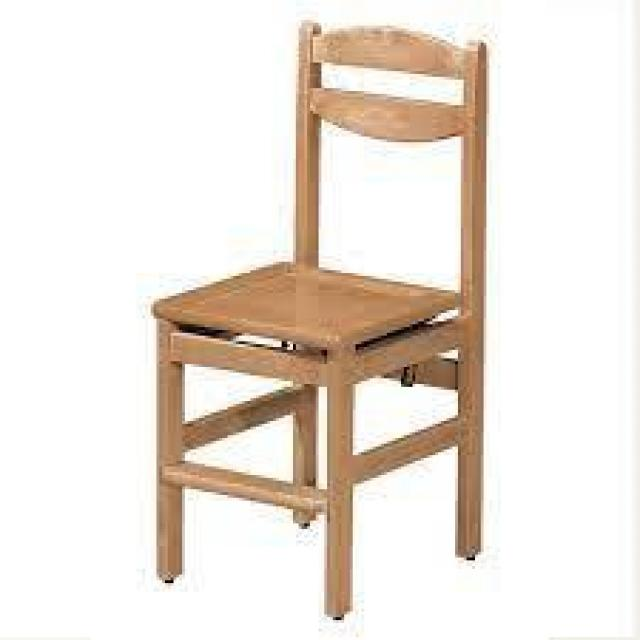chair: (108, 10, 506, 613)
